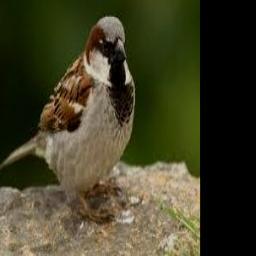Sparrow: (0, 16, 135, 225)
